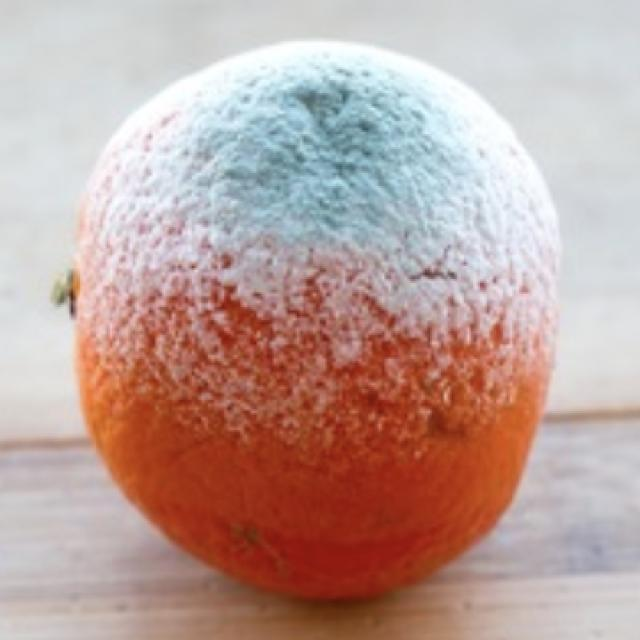sangat-busuk: (81, 43, 556, 399)
